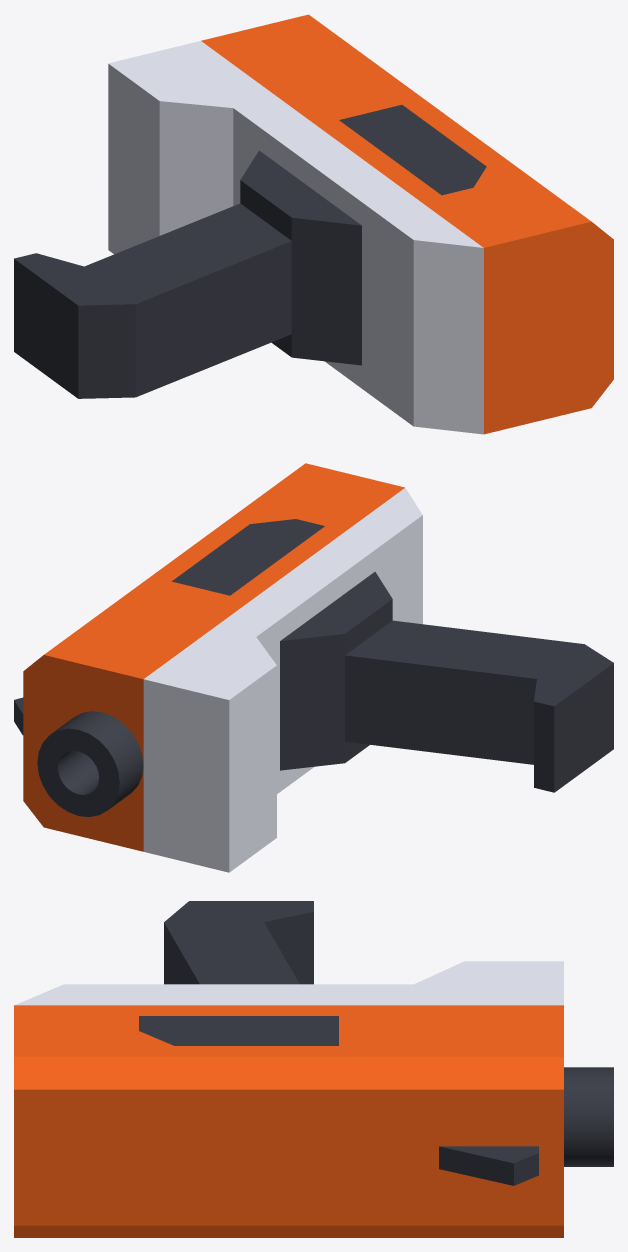
The model's file is pistol.glb.
3 renders of one model, top to bottom at view 1: azimuth 30°, elevation 25°; view 2: azimuth 150°, elevation 25°; view 3: azimuth 270°, elevation 25°, orthographic. The views are drawn at different scales.
Visible parts, largest first — view 1: mergedBlocks(Clone); view 2: mergedBlocks(Clone); view 3: mergedBlocks(Clone).
Boxes of the visible parts, bbox=[...] form: mergedBlocks(Clone): bbox=[14, 14, 613, 434]; mergedBlocks(Clone): bbox=[14, 463, 613, 872]; mergedBlocks(Clone): bbox=[14, 901, 613, 1237].
Bounding box in the file's own units: 1.08 × 0.4 × 1.2.
